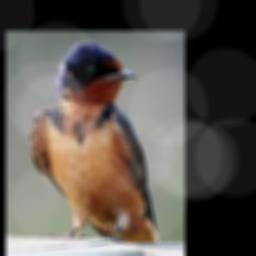Swallow: (29, 39, 159, 243)
